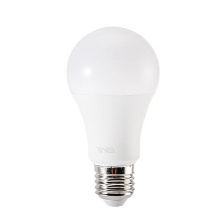light_bulb: (58, 16, 167, 210)
